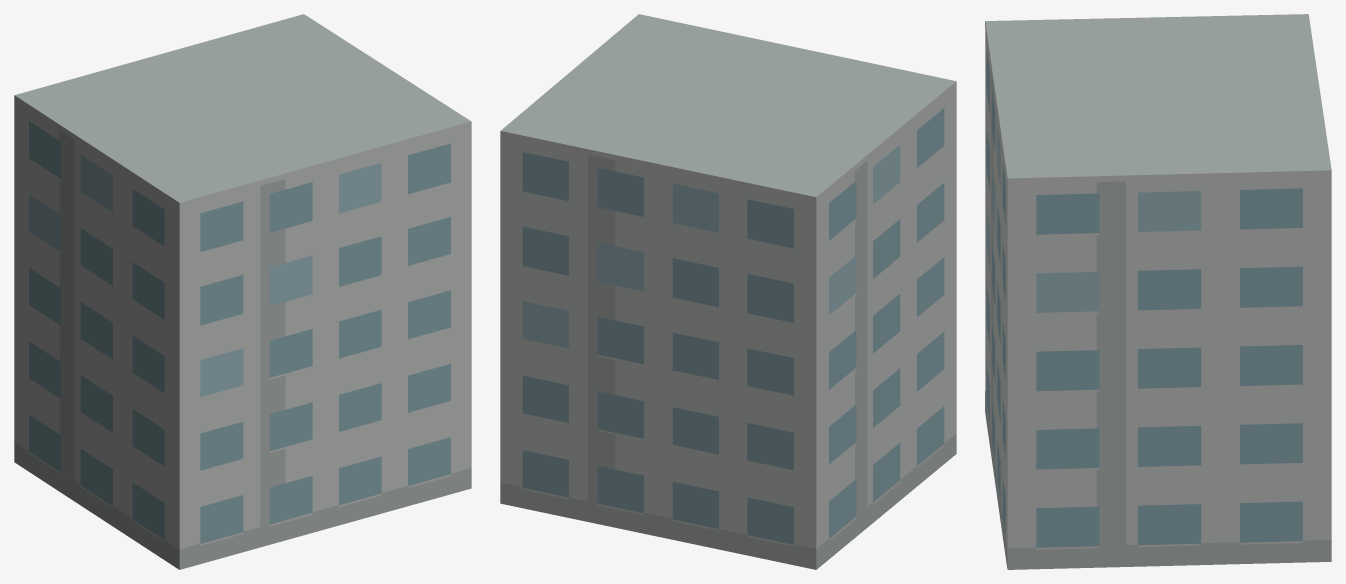
File: survey-upis-32891675.glb
The picture shows the model from 3 angles, left to right: view 1: azimuth 30°, elevation 25°; view 2: azimuth 150°, elevation 25°; view 3: azimuth 270°, elevation 25°; orthographic projection. The views are drawn at different scales.
Parts seen in each view (by area): view 1: survey-upis-32891675.tmp; view 2: survey-upis-32891675.tmp; view 3: survey-upis-32891675.tmp.
Part boxes in pixels (x1,y1,x2,y2): survey-upis-32891675.tmp: [14, 14, 471, 569]; survey-upis-32891675.tmp: [500, 14, 956, 569]; survey-upis-32891675.tmp: [985, 14, 1331, 569].
Bounding box in the file's own units: 14.42 × 16 × 12.84.
